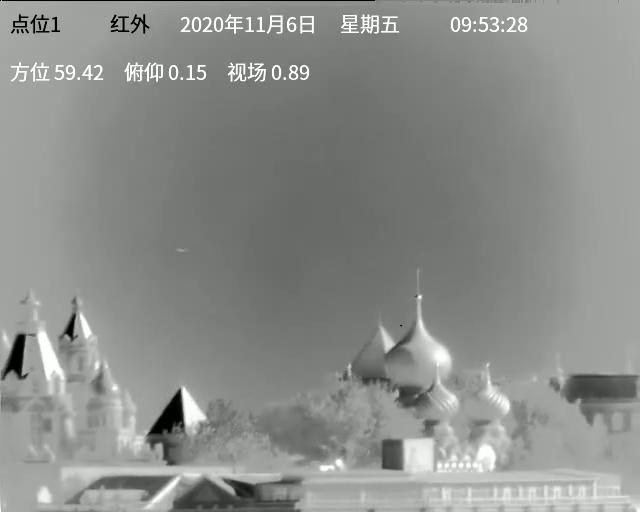uav: (176, 248, 186, 253)
